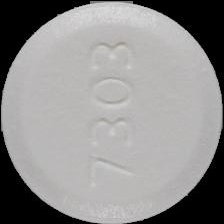0093-7303: (0, 0, 224, 224)
